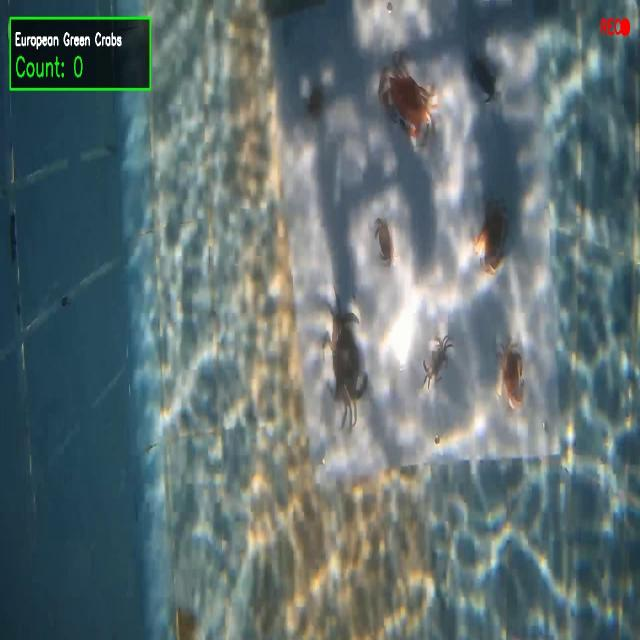European_Green_Crab: (318, 280, 367, 432), (416, 323, 459, 395), (462, 44, 505, 107)
